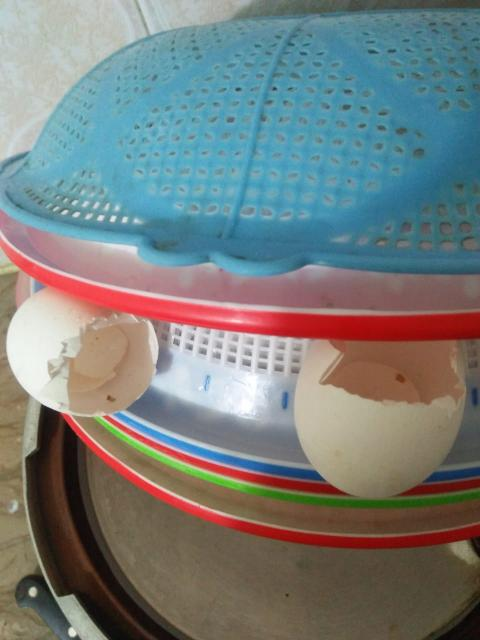Roto: (292, 336, 467, 499), (5, 284, 159, 418)
